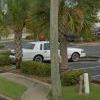Palm tree: (5, 0, 33, 69)
